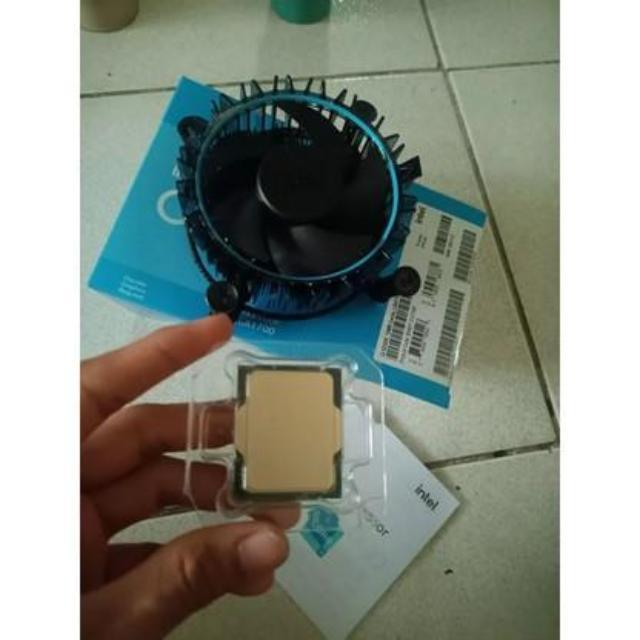CPU: (228, 364, 346, 502)
CPU_Fan: (180, 80, 418, 325)
